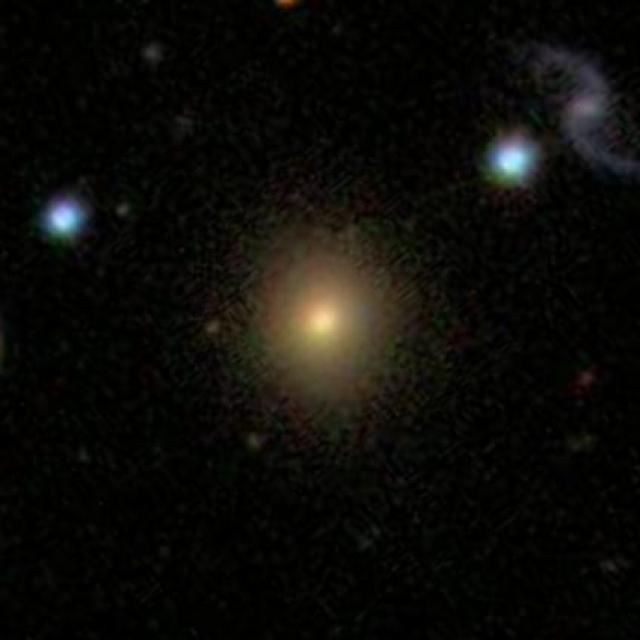galaxy: (222, 205, 426, 450), (530, 43, 640, 181), (479, 118, 551, 200), (33, 189, 99, 252), (238, 427, 272, 462), (568, 369, 599, 392), (203, 315, 225, 347), (111, 200, 137, 226), (143, 44, 165, 65), (273, 1, 303, 10)
